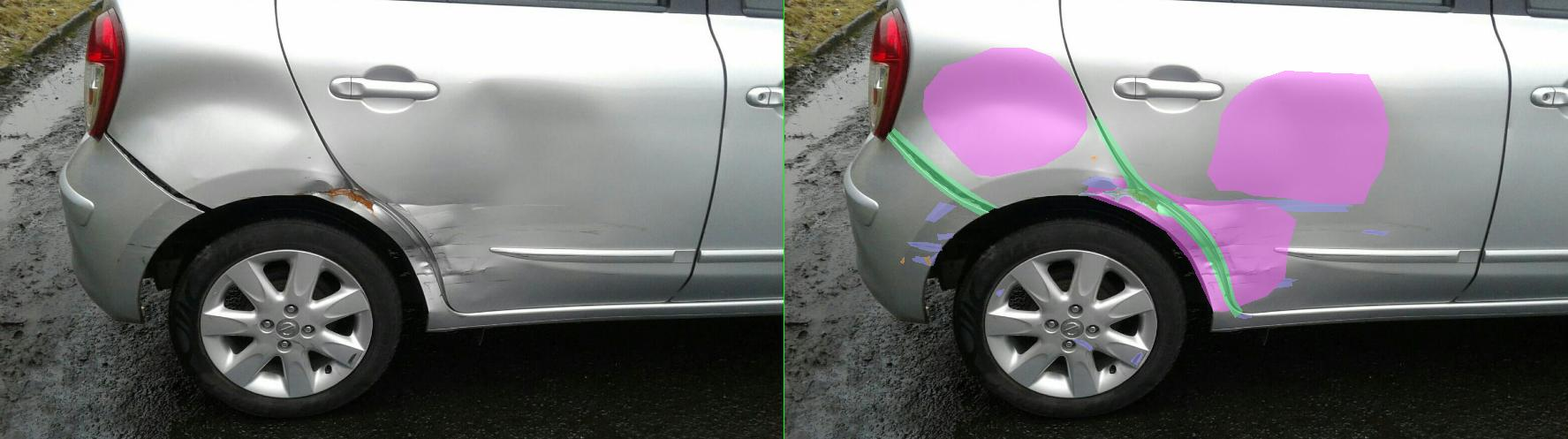Broken part: (620, 116, 916, 317), (203, 128, 424, 215)
Corrosion: (601, 187, 764, 218), (635, 187, 748, 213), (587, 193, 626, 195)
Dent: (599, 177, 1024, 311), (845, 71, 1209, 203), (278, 48, 605, 176)
Paint chip: (279, 256, 293, 266), (612, 155, 626, 161), (232, 257, 239, 263)
Scratch: (778, 199, 1128, 211), (834, 265, 985, 276), (253, 242, 313, 265), (893, 278, 1015, 289), (804, 243, 960, 251), (281, 202, 343, 222), (769, 201, 935, 208), (864, 241, 958, 252), (594, 176, 668, 188), (940, 204, 1137, 208), (849, 223, 910, 235), (879, 255, 940, 265), (246, 242, 315, 250), (810, 245, 847, 259), (859, 224, 930, 231), (576, 339, 617, 351), (843, 280, 879, 293), (889, 281, 953, 287), (836, 271, 868, 281), (693, 352, 716, 365), (1154, 230, 1209, 235), (872, 256, 963, 259), (815, 254, 856, 259), (306, 233, 339, 239), (978, 279, 1025, 283), (949, 235, 1006, 238), (861, 251, 902, 255), (903, 314, 933, 318), (854, 232, 873, 238), (422, 289, 438, 296), (255, 258, 274, 261)
